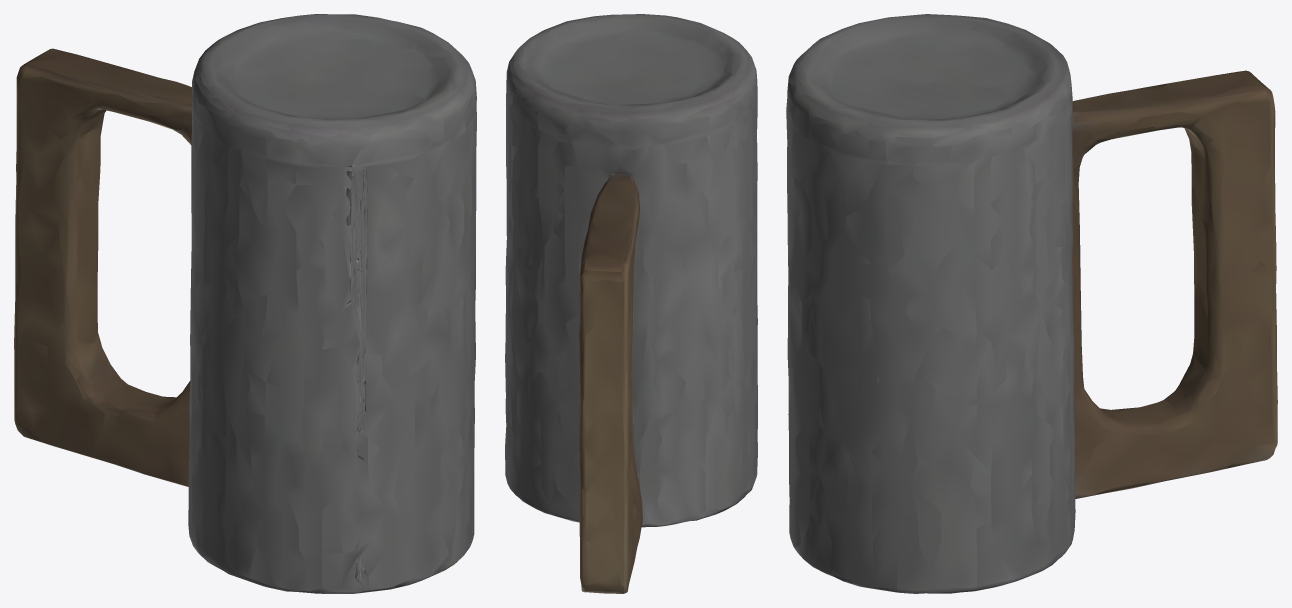
File: 0001_mask_002_glass_cup.glb
The picture shows the model from 3 angles, left to right: view 1: azimuth 30°, elevation 25°; view 2: azimuth 150°, elevation 25°; view 3: azimuth 270°, elevation 25°; orthographic projection. The views are drawn at different scales.
Parts seen in each view (by area): view 1: mask_002_object; view 2: mask_002_object; view 3: mask_002_object.
Part boxes in pixels (x1,y1,x2,y2): mask_002_object: (14,14,476,593); mask_002_object: (505,14,757,593); mask_002_object: (786,14,1277,593).
Bounding box in the file's own units: 0.1432 × 0.23 × 0.2179.
